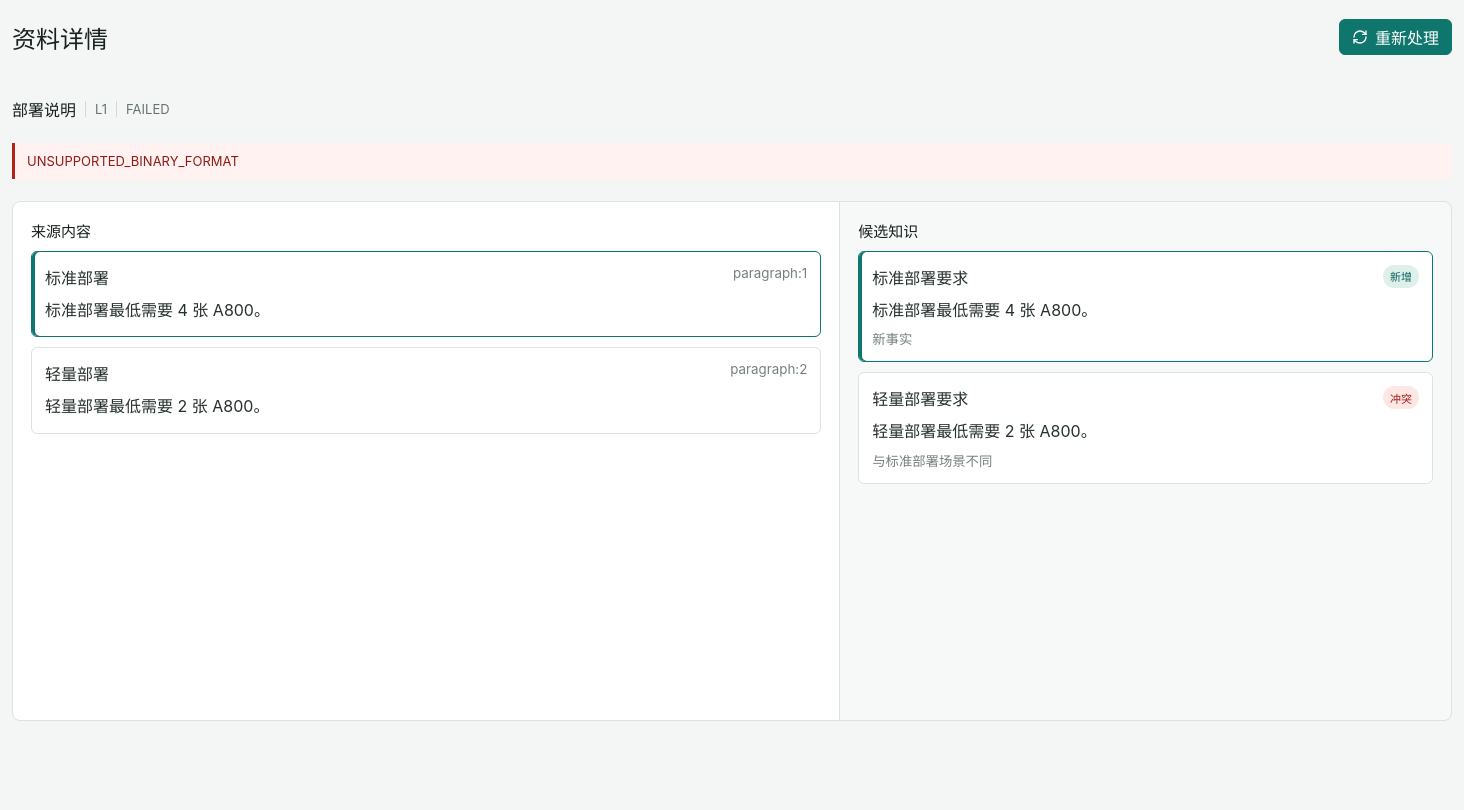
AssetDetailPage › lets an Admin retry a failed asset and refreshes the detail
The image size is (1464, 810).
Click the button "重新处理".
click(1396, 37)  # box [1339,19,1452,55]
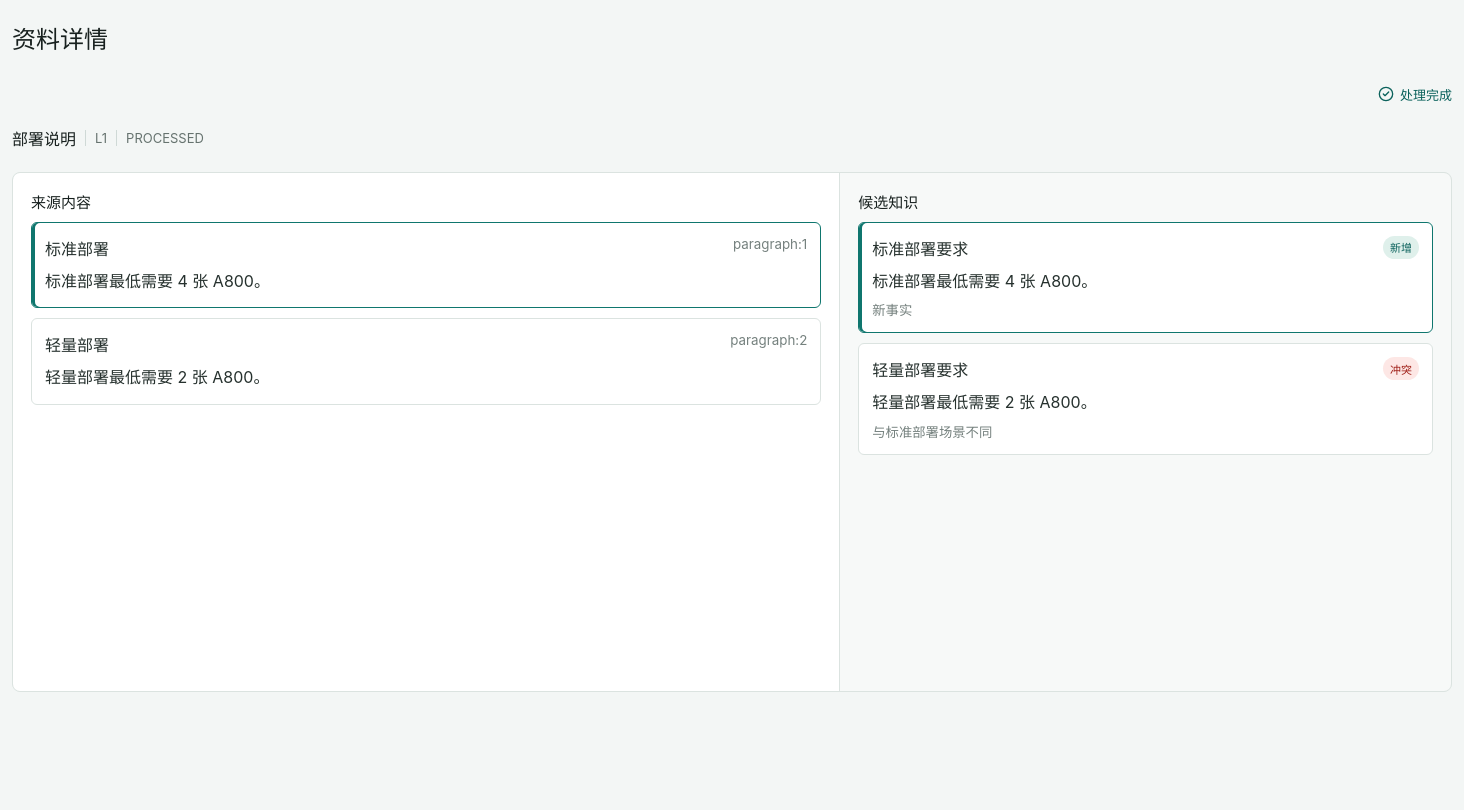
Expected: the text "处理完成" is shown, [1378,85,1452,104]
Expected: the button "重新处理" is gone
